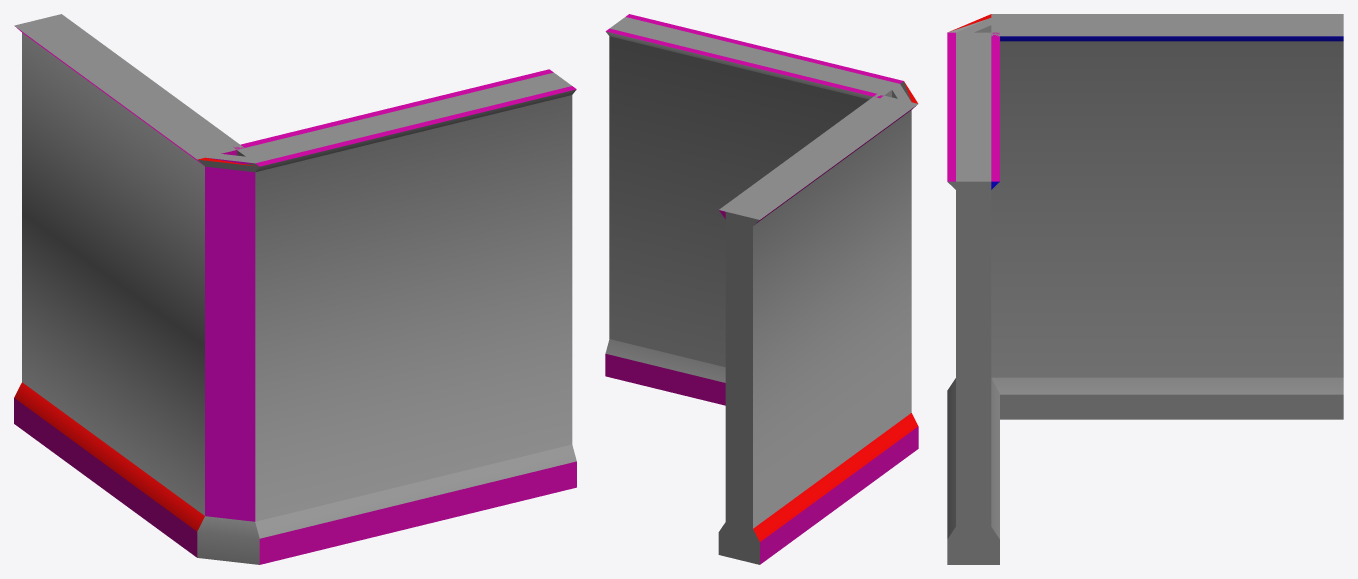
3 views of the same model, side by side, from view 1: azimuth 30°, elevation 25°; view 2: azimuth 150°, elevation 25°; view 3: azimuth 270°, elevation 25° (orthographic). The views are drawn at different scales.
Parts seen in each view (by area): view 1: ModularWall005; view 2: ModularWall005; view 3: ModularWall005.
Boxes of the visible parts, left/top/right/bottom form: ModularWall005: left=14, top=14, right=576, bottom=564; ModularWall005: left=605, top=14, right=918, bottom=564; ModularWall005: left=947, top=14, right=1343, bottom=564.
Bounding box in the file's own units: 113 × 120 × 112.
